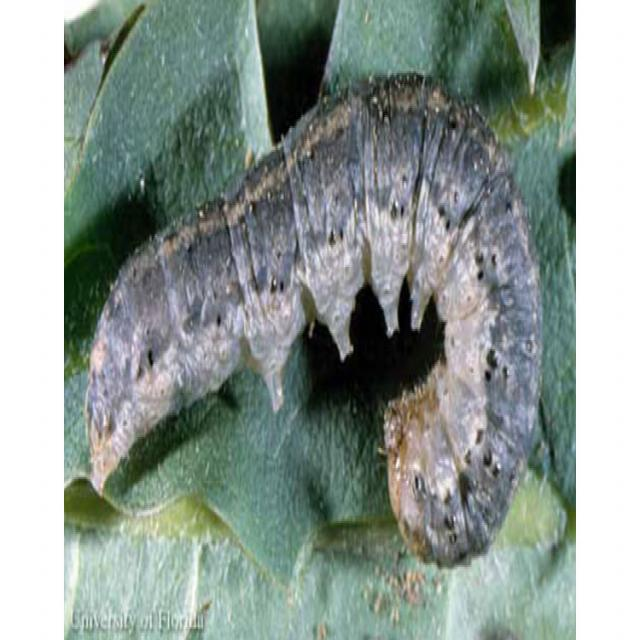cutworm: (76, 47, 545, 573)
